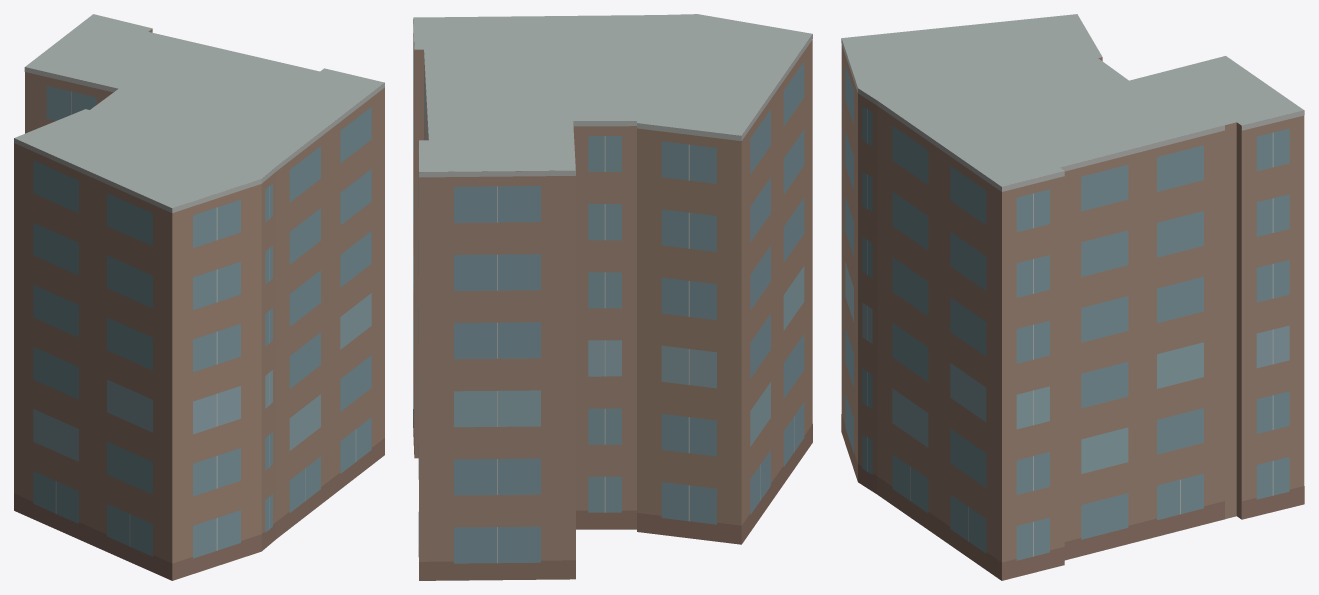
Rendered from survey-upis-33045647.glb.
The picture shows the model from 3 angles, left to right: view 1: azimuth 30°, elevation 25°; view 2: azimuth 150°, elevation 25°; view 3: azimuth 270°, elevation 25°; orthographic projection. The views are drawn at different scales.
Visible parts, largest first — view 1: survey-upis-33045647.tmp; view 2: survey-upis-33045647.tmp; view 3: survey-upis-33045647.tmp.
Part boxes in pixels (x1,y1,x2,y2): survey-upis-33045647.tmp: [14, 14, 384, 580]; survey-upis-33045647.tmp: [413, 14, 812, 580]; survey-upis-33045647.tmp: [841, 14, 1304, 580].
Size of the model in its own units: 17.61 by 18.7 by 19.92.
